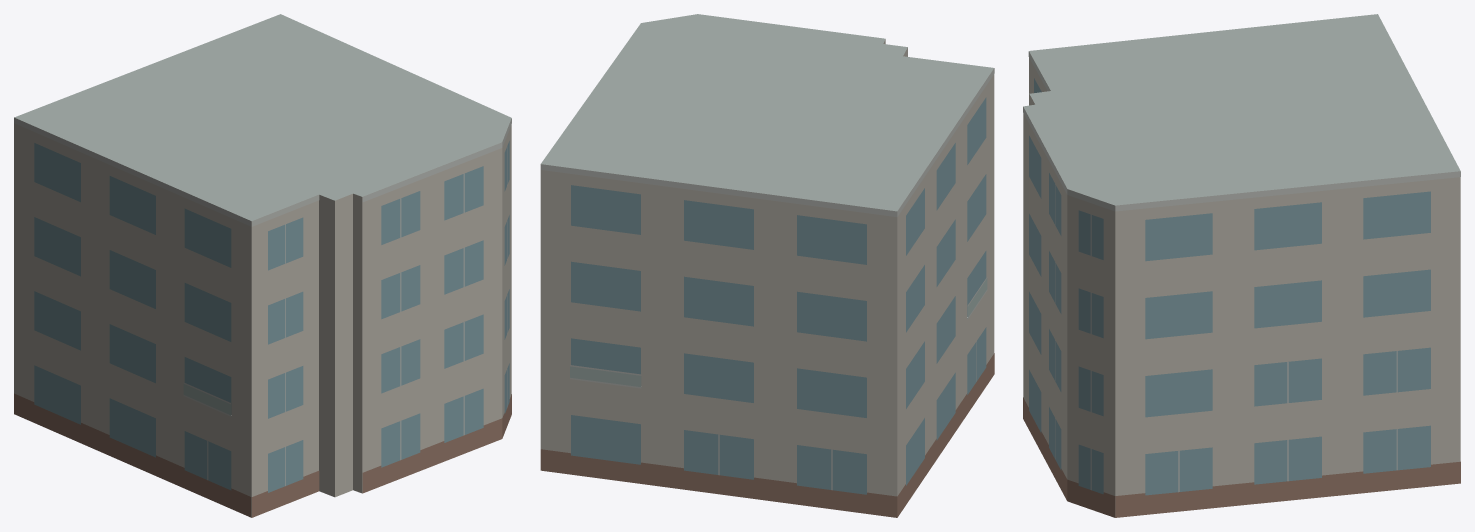
Rendered from survey-upis-32618848.glb.
3 renders of one model, left to right at view 1: azimuth 30°, elevation 25°; view 2: azimuth 150°, elevation 25°; view 3: azimuth 270°, elevation 25°, orthographic. The views are drawn at different scales.
Visible parts, largest first — view 1: survey-upis-32618848.tmp; view 2: survey-upis-32618848.tmp; view 3: survey-upis-32618848.tmp.
Boxes of the visible parts, <box> form: survey-upis-32618848.tmp: <box>14,14,511,517</box>; survey-upis-32618848.tmp: <box>540,14,994,517</box>; survey-upis-32618848.tmp: <box>1023,14,1460,517</box>.
Bounding box in the file's own units: 16.85 × 12.8 × 16.27.
